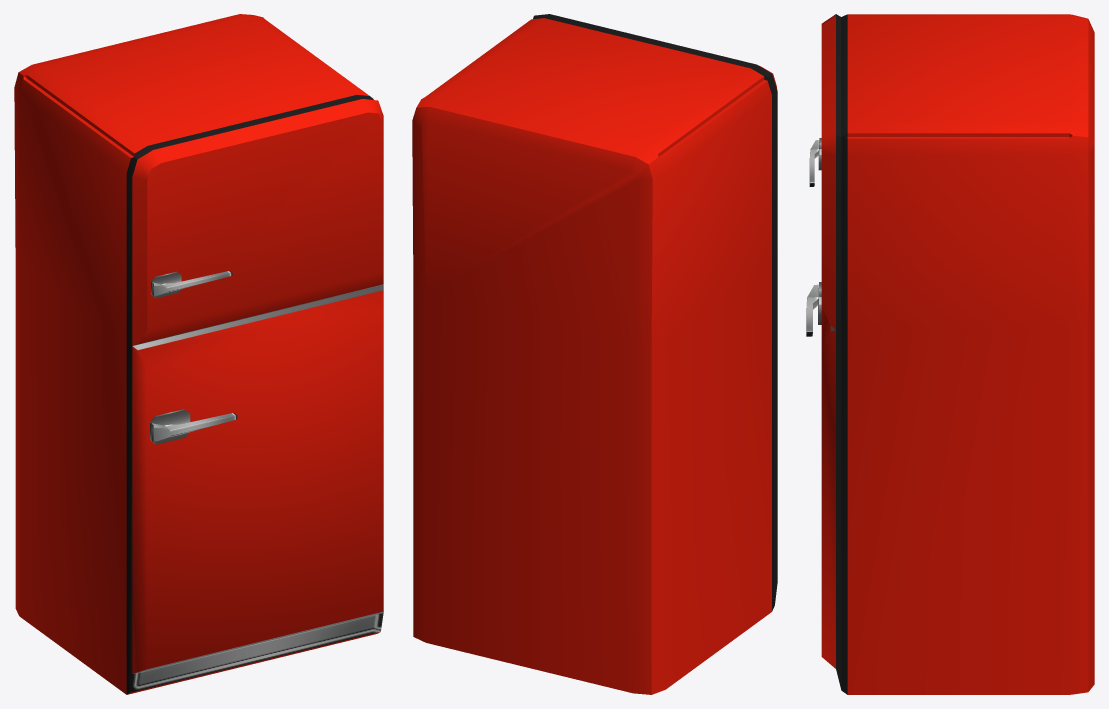
Rendered from Fridge_01.FBX.
The picture shows the model from 3 angles, left to right: view 1: azimuth 30°, elevation 25°; view 2: azimuth 150°, elevation 25°; view 3: azimuth 270°, elevation 25°; orthographic projection. The views are drawn at different scales.
Visible parts, largest first — view 1: Fridge; view 2: Fridge; view 3: Fridge.
Part boxes in pixels (<box>): Fridge: <box>14,14,383,694</box>; Fridge: <box>412,14,777,694</box>; Fridge: <box>806,14,1094,694</box>.
Bounding box in the file's own units: 145 × 300 × 139.
